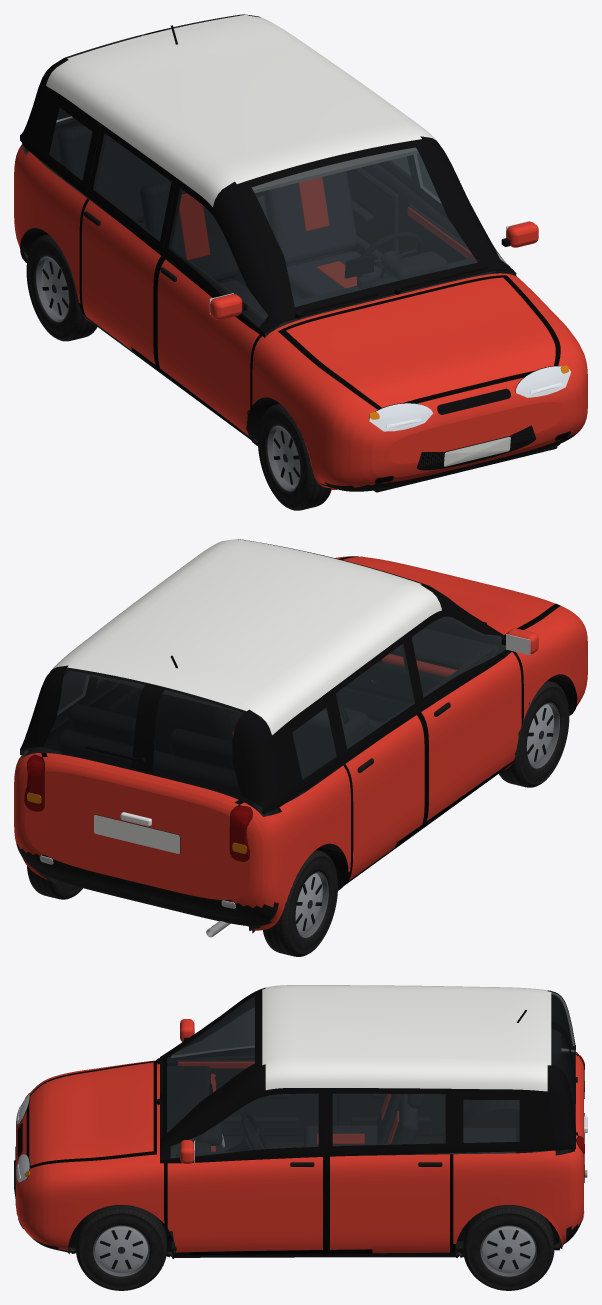
Rendered from pico.glb.
3 renders of one model, top to bottom at view 1: azimuth 30°, elevation 25°; view 2: azimuth 150°, elevation 25°; view 3: azimuth 270°, elevation 25°, orthographic. The views are drawn at different scales.
Visible parts, largest first — view 1: pico, hood, door_FR, door_RR, door_RL, wheel_FR, popout_RR, wheel_RR, door_FL, tailgate, steering_wheel; view 2: pico, tailgate, door_FR, door_RR, wheel_RR, hood, popout_RR, wheel_FR, door_RL, wheel_RL; view 3: pico, door_FL, door_RL, hood, door_FR, wheel_RL, wheel_FL, popout_RL, tailgate, door_RR, steering_wheel.
Part boxes in pixels (box(x1,y1,x2,y2)): pico: box(14, 14, 587, 492); hood: box(286, 277, 555, 407); door_FR: box(157, 178, 271, 435); door_RR: box(82, 124, 174, 364); door_RL: box(343, 156, 420, 273); wheel_FR: box(258, 403, 331, 510); popout_RR: box(93, 133, 171, 241); wheel_RR: box(26, 234, 97, 341); door_FL: box(408, 153, 538, 273); tailgate: box(20, 14, 254, 150); steering_wheel: box(356, 232, 421, 281); pico: box(14, 539, 587, 937); tailgate: box(20, 667, 284, 826); door_FR: box(406, 610, 538, 820); door_RR: box(330, 635, 424, 879); wheel_RR: box(263, 850, 337, 956); hood: box(343, 556, 555, 634); popout_RR: box(336, 644, 414, 748); wheel_FR: box(499, 680, 569, 787); door_RL: box(90, 677, 141, 717); wheel_RL: box(27, 866, 82, 899); pico: box(14, 985, 587, 1258); door_FL: box(167, 1088, 325, 1252); door_RL: box(329, 1088, 452, 1252); hood: box(29, 1062, 153, 1165); door_FR: box(167, 1003, 318, 1142); wheel_RL: box(463, 1205, 554, 1290); wheel_FL: box(76, 1205, 166, 1290); popout_RL: box(332, 1093, 445, 1146); tailgate: box(551, 991, 587, 1150); door_RR: box(333, 1094, 445, 1143); steering_wheel: box(241, 1112, 269, 1149).
Size of the model in its own units: 1.96 by 1.58 by 3.59.
Materials: 53 (7 with a texture image).
